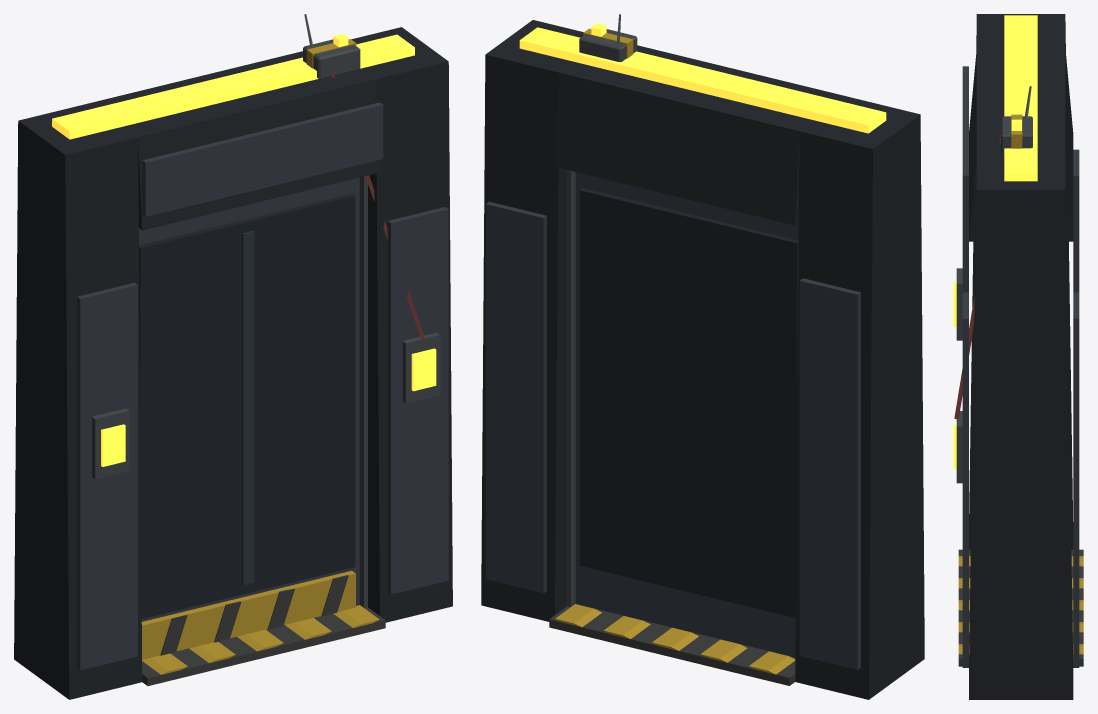
File: device_door_hacked.glb
3 views of the same model, side by side, from view 1: azimuth 30°, elevation 25°; view 2: azimuth 150°, elevation 25°; view 3: azimuth 270°, elevation 25° (orthographic). The views are drawn at different scales.
Visible parts, largest first — view 1: device_door_mesh; view 2: device_door_mesh; view 3: device_door_mesh.
Boxes of the visible parts, box(x1,y1,x2,y2) form: device_door_mesh: box(14, 14, 452, 699); device_door_mesh: box(481, 14, 924, 699); device_door_mesh: box(953, 14, 1083, 699).
Bounding box in the file's own units: 2 × 2.97 × 0.625.
